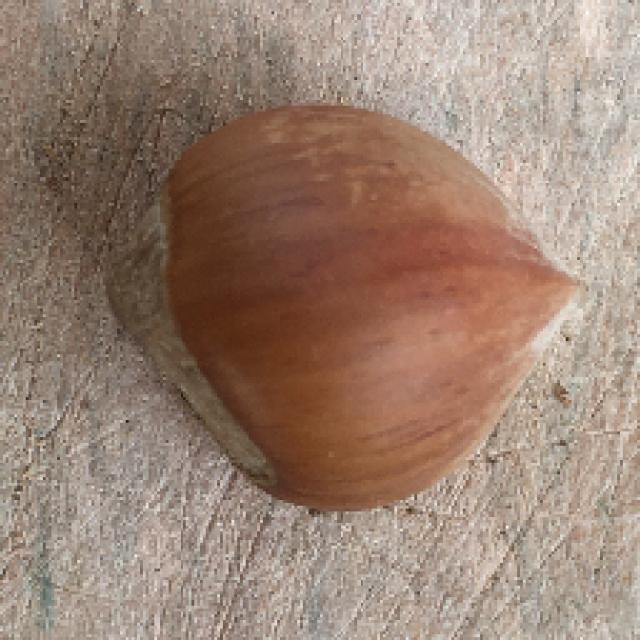qualityHazelnut: (114, 104, 590, 522)
